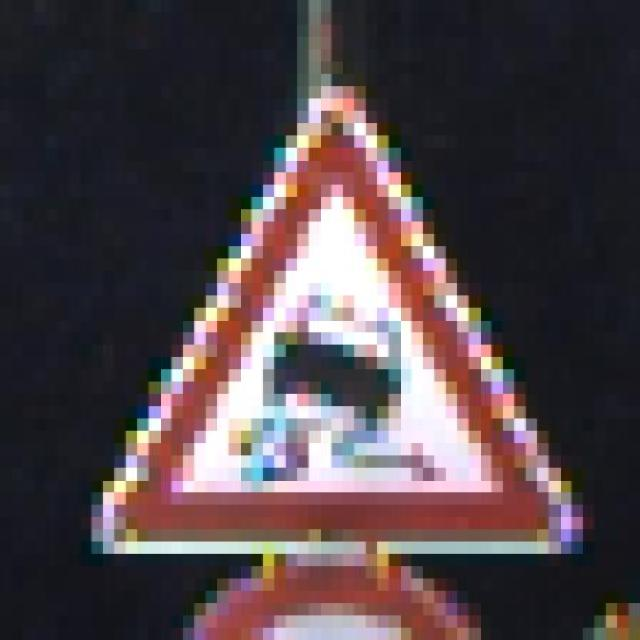Slippery Road Ahead: (79, 74, 595, 566)
